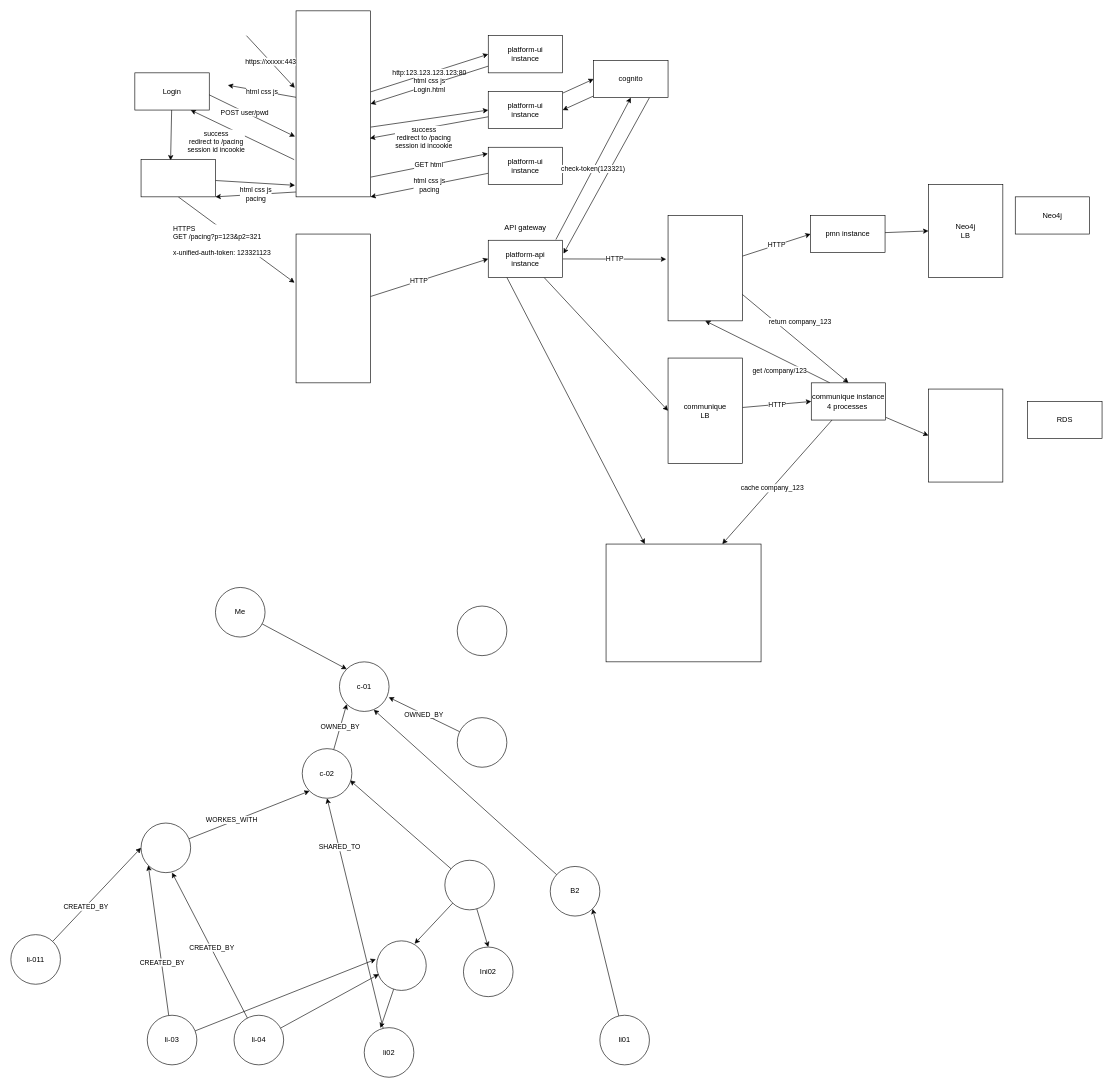
The diagram is 1113 pixels wide and 1088 high, and some of its shapes have lost their labels. The centre of each missing label's shape, as x and y in pixels:
B1: the point at 469,885
c-03: the point at 482,742
c-1000: the point at 482,630
Ini01: the point at 401,965
Pacing: the point at 177,178
platform-api LB: the point at 332,308
platform-ui LB: the point at 332,103
pmn LB: the point at 704,268
RDS LB: the point at 965,435
Redis server: the point at 683,602
User: the point at 165,847
